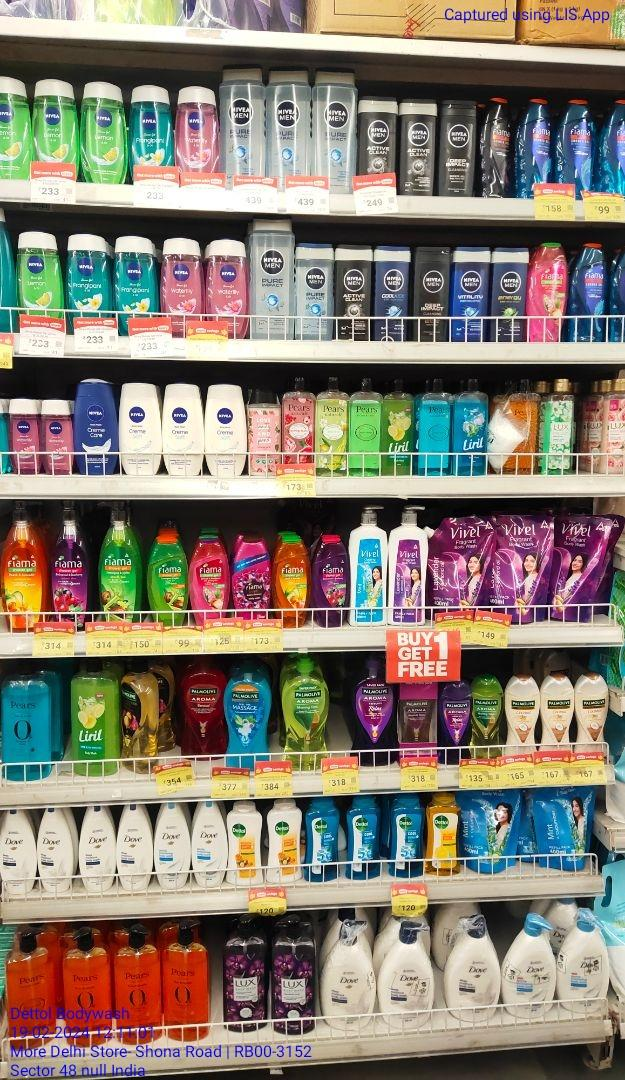Dettol_Bodywash_Cool: (387, 794, 423, 878), (343, 799, 380, 876), (308, 799, 338, 881)
Dettol_Bodywash_Refresh: (426, 795, 458, 874)
Dove_Deep_Moisture_Body_Wash_250ML: (33, 807, 75, 892), (75, 801, 114, 890), (116, 802, 153, 891), (2, 807, 32, 894)
Dove_Gentle_Exfoliating_Body_Wash_250ML: (153, 802, 193, 888), (194, 801, 227, 886)
Fiama_Shower_Gel_Lemongrass_and_Jojoba_250ML: (145, 535, 188, 626)
Fiama_Shower_Gel_Patchouli_and_Macadamia_250ML: (188, 535, 230, 623), (530, 243, 567, 340)
Fiama_Shower_Gel_Peach_and_Avocado_250ML: (272, 538, 309, 627)
Liril_Cooling_Mint_Body_Wash_250ML: (459, 376, 489, 473)
Liril_Lime_and_Tea_Tree_Oil_Body_Wash_250ML: (385, 373, 418, 474)
Lux_Body_Wash_Skin_Detox_Freesia_Scent_and_Alove_Vera_245ML: (546, 374, 577, 472)
Nivea_Shower_Gel_Frangipani_and_Oil_250ML: (111, 234, 159, 332), (67, 229, 111, 323), (132, 80, 175, 167)
Nivea_Shower_Gel_Lemon_and_Oil_250ML: (33, 76, 82, 179), (15, 230, 65, 325), (85, 78, 127, 185)
Nivea_Shower_Gel_Waterlily_and_Oil_250ML: (160, 237, 205, 335), (176, 81, 220, 174), (208, 239, 249, 338), (43, 402, 75, 469), (12, 399, 40, 469)
Pears_Naturale_Aloe_Vera_Body_Wash_250ML: (314, 379, 346, 476)
Pears_Pure_Glycerin_and_Lemon_Flower_Extracts_Body_Wash_250ML: (348, 376, 381, 474)
Pears_Pure_Glycerin_and_Mint_Extracts_Body_Wash_250ML: (419, 376, 452, 473)
